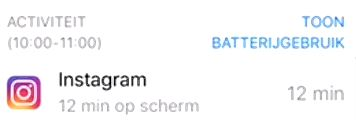activity: (1, 14, 121, 52)
app: (5, 65, 352, 120)
